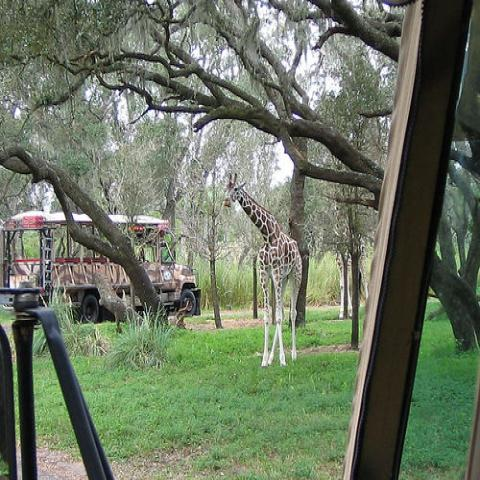bus: (5, 211, 198, 322)
truck: (2, 210, 199, 317)
